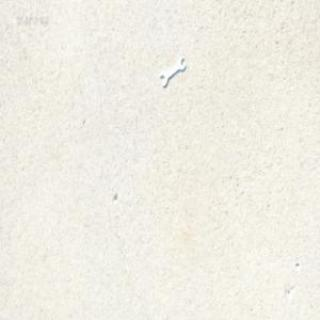Wrenchtrack_idkeyframe: (159, 56, 184, 88)
